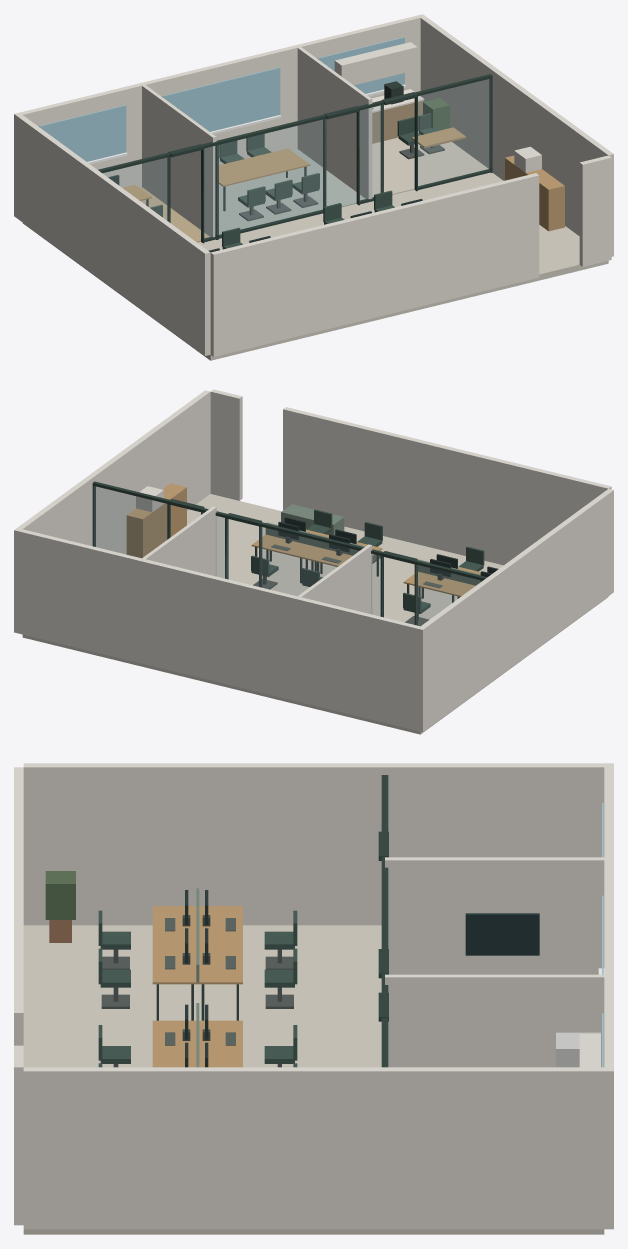
The model's file is 04_사무실_모델.glb.
3 renders of one model, top to bottom at view 1: azimuth 30°, elevation 25°; view 2: azimuth 150°, elevation 25°; view 3: azimuth 270°, elevation 25°, orthographic. The views are drawn at different scales.
Visible parts, largest first — view 1: 전면 벽 A, 유리 칸막이 (×5), 좌측 벽, 실간 칸막이 (×2), 우측 벽, 후면 벽, 가정 창호 (×3), 바닥, 회의실 바닥, 탕비실 바닥, 전면 벽 B, 탕비 상부장 (+8 smaller); view 2: 후면 벽, 전면 벽 A, 좌측 벽, 우측 벽, 유리 칸막이 (×5), 바닥, 실간 칸막이 (×2), 전면 벽 B, 공용 수납장, 입구 벤치, 직원 책상 8, 직원 책상 4 (+4 smaller); view 3: 우측 벽, 좌측 벽, 실간 칸막이 (×2), 바닥, 후면 벽, 회의실 화면, 전면 벽 A, 전면 벽 B, 직원 책상 3, 직원 책상 4, 식재, 직원 책상 5 (+6 smaller).
Part boxes in pixels (box(x1,y1,x2,y2)): 전면 벽 A: box(210, 173, 539, 356); 유리 칸막이 (×5): box(103, 79, 490, 237); 좌측 벽: box(17, 115, 210, 355); 실간 칸막이 (×2): box(142, 47, 372, 237); 우측 벽: box(420, 16, 613, 256); 후면 벽: box(14, 14, 425, 217); 가정 창호 (×3): box(39, 37, 404, 161); 바닥: box(23, 172, 608, 360); 회의실 바닥: box(219, 149, 365, 234); 탕비실 바닥: box(372, 132, 488, 197); 전면 벽 B: box(579, 155, 611, 266); 탕비 상부장: box(334, 42, 417, 85); 후면 벽: box(14, 528, 425, 731); 전면 벽 A: box(283, 407, 611, 565); 좌측 벽: box(421, 488, 613, 729); 우측 벽: box(17, 390, 210, 554); 유리 칸막이 (×5): box(93, 486, 481, 625); 바닥: box(22, 494, 608, 734); 실간 칸막이 (×2): box(142, 506, 372, 614); 전면 벽 B: box(210, 389, 242, 500); 공용 수납장: box(126, 483, 186, 558); 입구 벤치: box(281, 504, 344, 535); 직원 책상 8: box(251, 534, 315, 558); 직원 책상 4: box(403, 571, 467, 595); 우측 벽: box(23, 1067, 604, 1229); 좌측 벽: box(23, 763, 604, 925); 실간 칸막이 (×2): box(385, 857, 604, 1067); 바닥: box(23, 925, 604, 1234); 후면 벽: box(604, 763, 613, 1229); 회의실 화면: box(465, 913, 539, 955); 전면 벽 A: box(14, 767, 23, 1045); 전면 벽 B: box(14, 1045, 23, 1225); 직원 책상 3: box(152, 944, 197, 984); 직원 책상 4: box(198, 944, 242, 984); 식재: box(45, 871, 75, 919); 직원 책상 5: box(152, 1020, 196, 1058).
Size of the model in its own units: 11.3 by 2.86 by 9.3.
